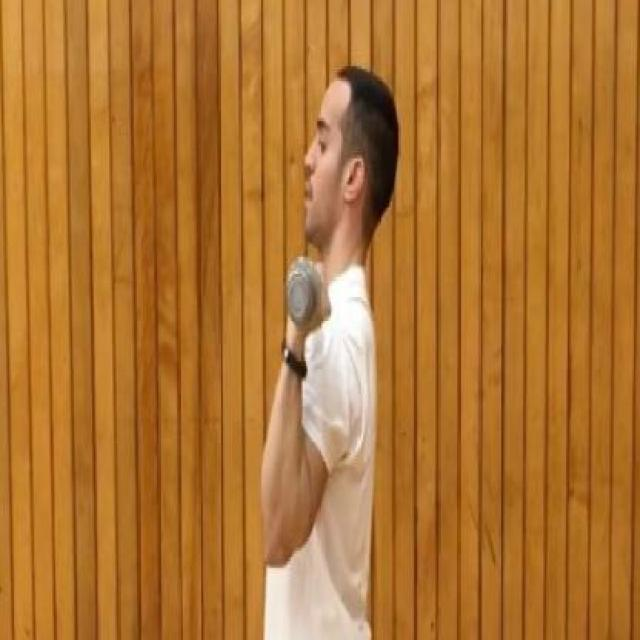Barbell: (282, 263, 315, 329)
